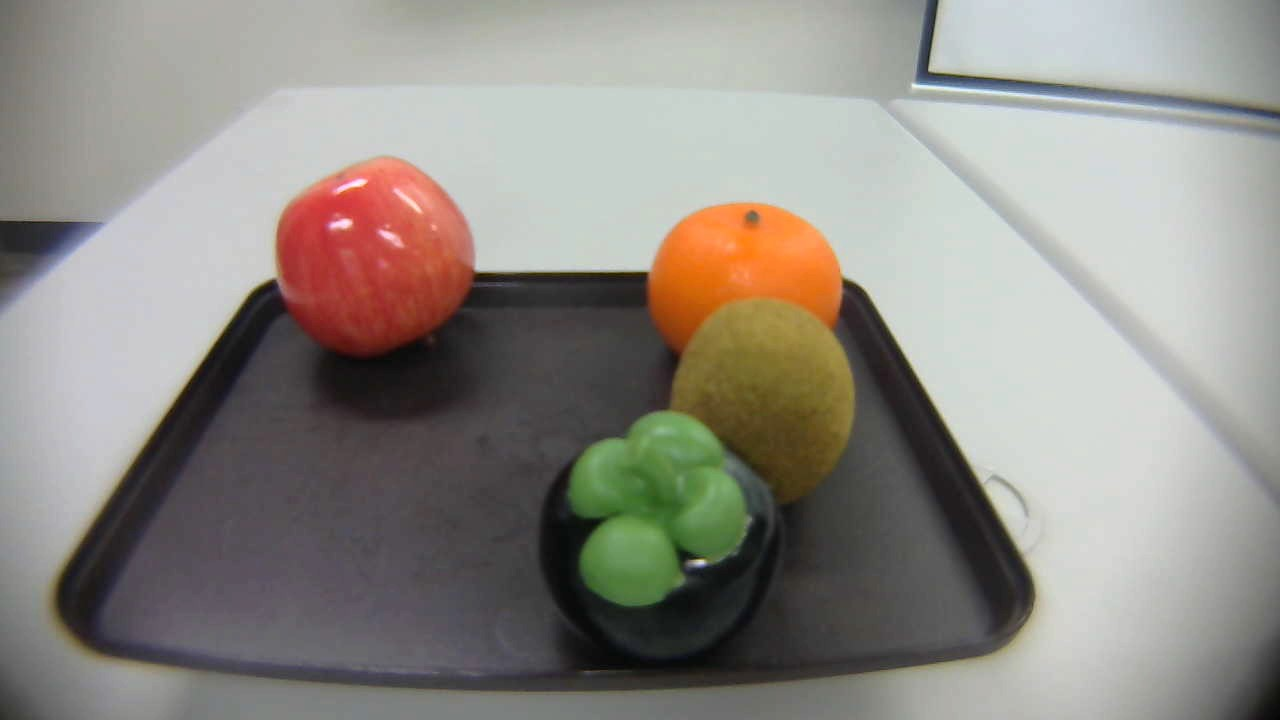kiwi fruit: (647, 299, 868, 519)
mangosteen: (532, 402, 789, 673)
orange: (637, 196, 858, 371)
red apple: (263, 143, 485, 378)
